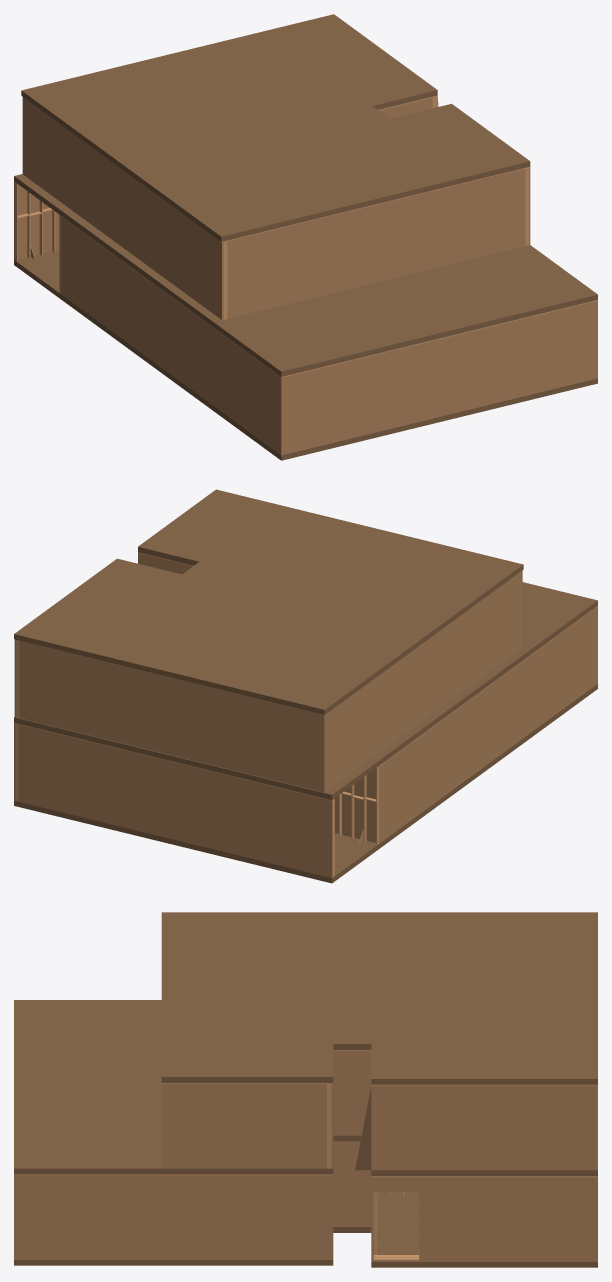
File: Killhouse 2.fbx
3 renders of one model, top to bottom at view 1: azimuth 30°, elevation 25°; view 2: azimuth 150°, elevation 25°; view 3: azimuth 270°, elevation 25°, orthographic. The views are drawn at different scales.
Visible parts, largest first — view 1: Stud Wall 1.015, Stud Wall 1.016, Stud Wall 1.017, Stud Wall 1.018, Stud Wall 1.014, Stud Wall 1.049, Stud Wall 1.048, Stud Wall 1.052, Stud Wall 1.050, Stud Wall 1.053, Top Floor Studs.035, Top Floor Studs.044 (+51 smaller); view 2: Stud Wall 1.040, Stud Wall 1.041, Stud Wall 1.063, Stud Wall 1.024, Stud Wall 1.025, Stud Wall 1.039, Stud Wall 1.065, Stud Wall 1.062, Stud Wall 1.061, Stud Wall 1.064, Top Floor Studs.041, Top Floor Studs.042 (+45 smaller); view 3: Stud Wall 1.067, Stud Wall 1.058, Stud Wall 1.011, Stud Wall 1, Stud Wall 1.012, Stud Wall 1.013, Stud Wall 1.023, Stud Wall 1.010, Stud Wall 1.068, Stud Wall 1.059, Stud Wall 1.070, Top Floor Studs.035 (+47 smaller).
Part boxes in pixels (box(x1,y1,x2,y2)): Stud Wall 1.015: box(344, 347, 407, 439); Stud Wall 1.016: box(408, 332, 471, 424); Stud Wall 1.017: box(471, 316, 534, 408); Stud Wall 1.018: box(534, 301, 596, 393); Stud Wall 1.014: box(283, 362, 344, 454); Stud Wall 1.049: box(347, 197, 407, 289); Stud Wall 1.048: box(287, 212, 347, 303); Stud Wall 1.052: box(408, 182, 468, 274); Stud Wall 1.050: box(227, 227, 287, 318); Stud Wall 1.053: box(468, 168, 525, 259); Top Floor Studs.035: box(420, 131, 530, 183); Top Floor Studs.044: box(139, 120, 251, 169); Stud Wall 1.040: box(269, 786, 332, 877); Stud Wall 1.041: box(145, 755, 207, 847); Stud Wall 1.063: box(19, 641, 81, 733); Stud Wall 1.024: box(19, 725, 81, 816); Stud Wall 1.025: box(82, 740, 144, 832); Stud Wall 1.039: box(207, 771, 269, 862); Stud Wall 1.065: box(261, 700, 322, 791); Stud Wall 1.062: box(141, 671, 201, 762); Stud Wall 1.061: box(81, 656, 141, 747); Stud Wall 1.064: box(201, 685, 261, 776); Top Floor Studs.041: box(79, 619, 189, 671); Top Floor Studs.042: box(14, 603, 120, 654); Stud Wall 1.067: box(507, 1085, 596, 1170); Stud Wall 1.058: box(238, 1084, 326, 1168); Stud Wall 1.011: box(173, 1175, 253, 1259); Stud Wall 1: box(438, 1177, 517, 1261); Stud Wall 1.012: box(94, 1175, 173, 1259); Stud Wall 1.013: box(14, 1175, 93, 1259); Stud Wall 1.023: box(518, 1177, 597, 1261); Stud Wall 1.010: box(253, 1175, 331, 1259); Stud Wall 1.068: box(431, 1085, 507, 1170); Stud Wall 1.059: box(162, 1084, 237, 1168); Stud Wall 1.070: box(355, 1085, 431, 1170); Top Floor Studs.035: box(161, 1040, 252, 1082).
Size of the model in its own units: 1091 by 557 by 1562.
